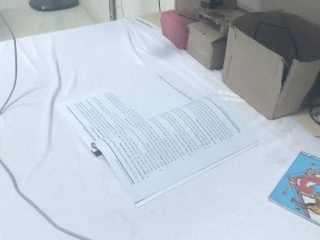book: (265, 147, 320, 236)
box: (221, 10, 320, 121), (186, 20, 228, 71)
